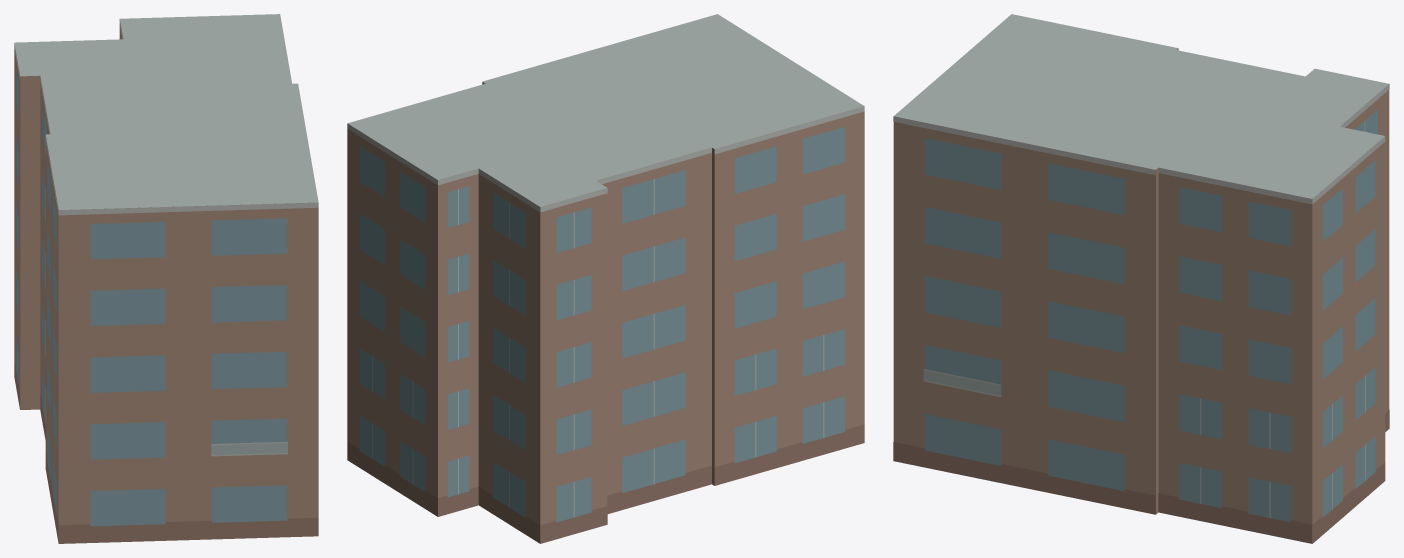
Rendered from survey-upis-32608789.glb.
3 renders of one model, left to right at view 1: azimuth 30°, elevation 25°; view 2: azimuth 150°, elevation 25°; view 3: azimuth 270°, elevation 25°, orthographic. The views are drawn at different scales.
Visible parts, largest first — view 1: survey-upis-32608789.tmp; view 2: survey-upis-32608789.tmp; view 3: survey-upis-32608789.tmp.
Boxes of the visible parts, bbox=[...] form: survey-upis-32608789.tmp: bbox=[14, 14, 318, 543]; survey-upis-32608789.tmp: bbox=[347, 14, 864, 543]; survey-upis-32608789.tmp: bbox=[893, 14, 1389, 543].
Bounding box in the file's own units: 17.85 × 15.5 × 20.21.
